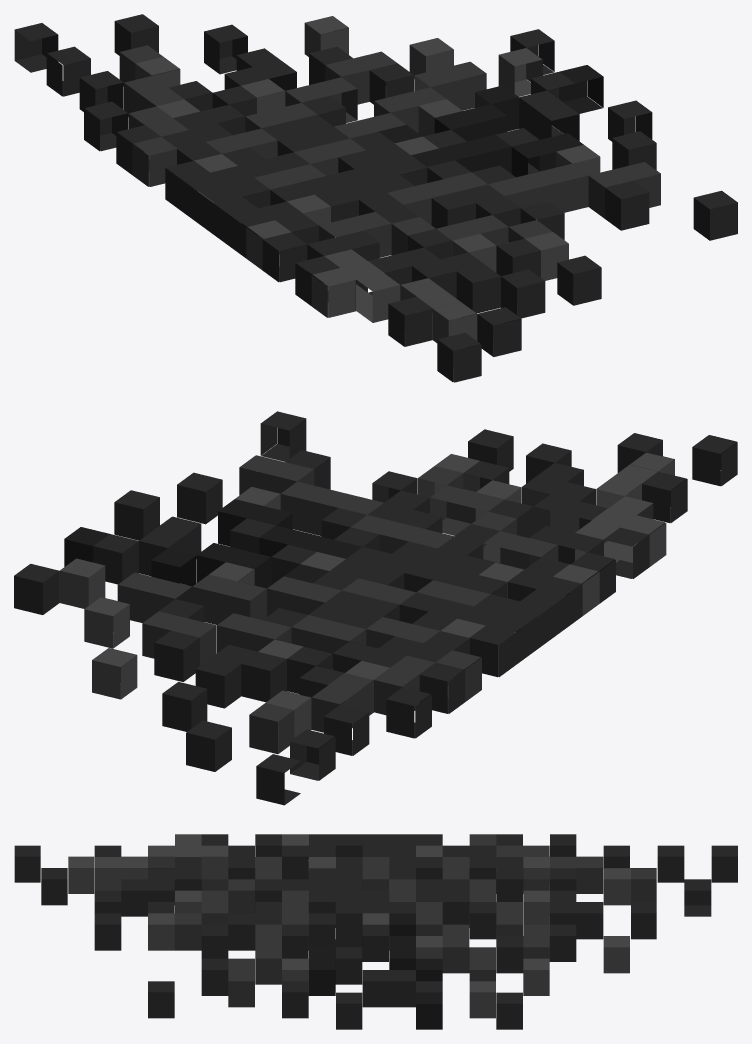
File: scorchmark_2.gltf
3 views of the same model, one above another, from view 1: azimuth 30°, elevation 25°; view 2: azimuth 150°, elevation 25°; view 3: azimuth 270°, elevation 25° (orthographic). The views are drawn at different scales.
Parts seen in each view (by area): view 1: scorchmark_2; view 2: scorchmark_2; view 3: scorchmark_2.
Part boxes in pixels (x1=…): scorchmark_2: x1=14, y1=14, x2=737, y2=382; scorchmark_2: x1=14, y1=411, x2=737, y2=805; scorchmark_2: x1=14, y1=834, x2=737, y2=1029.
Bounding box in the file's own units: 1.43 × 0.1018 × 2.58.
1 material, 1 textured.
